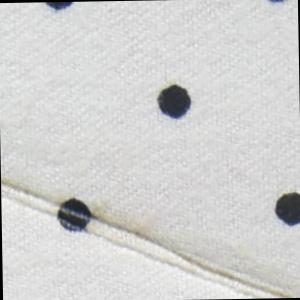Oil Stain: (1, 169, 299, 300)
